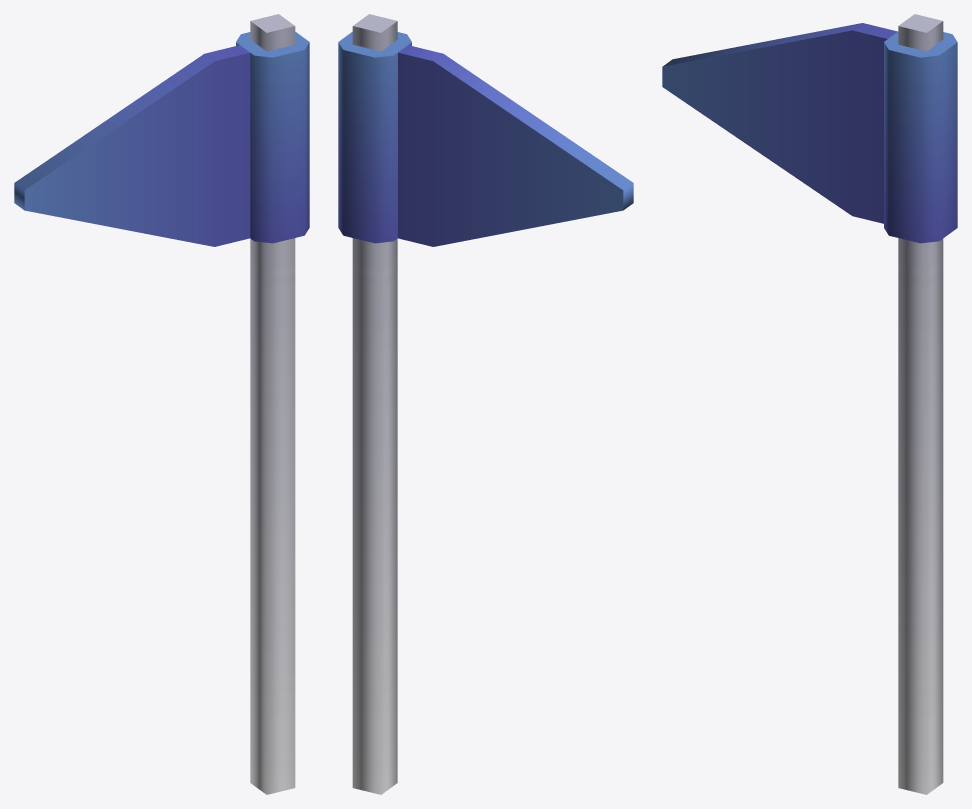
The model's file is flag-blue.glb.
The picture shows the model from 3 angles, left to right: view 1: azimuth 30°, elevation 25°; view 2: azimuth 150°, elevation 25°; view 3: azimuth 330°, elevation 25°; orthographic projection.
Parts seen in each view (by area): view 1: flag-blue; view 2: flag-blue; view 3: flag-blue.
Part boxes in pixels (x1,y1,x2,y2): flag-blue: (14,14,309,794); flag-blue: (338,14,633,794); flag-blue: (662,14,957,794).
Bounding box in the file's own units: 0.3956 × 1.02 × 0.0781.
Materials: 1 (1 with a texture image).
